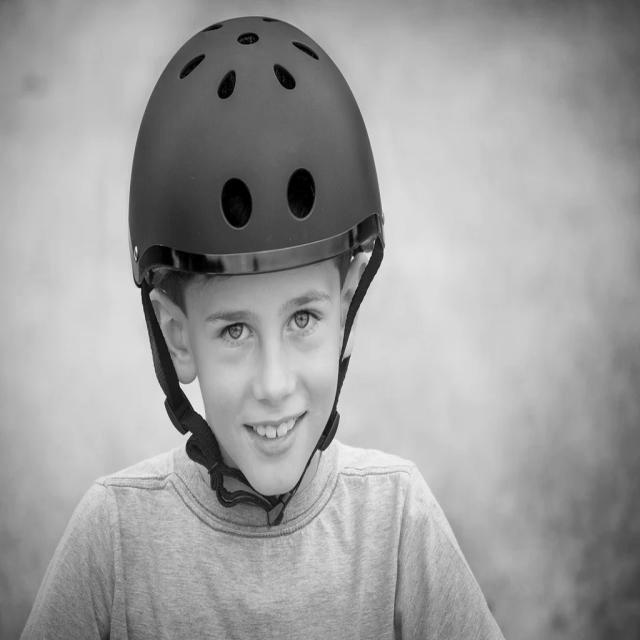helmet: (99, 0, 468, 300)
